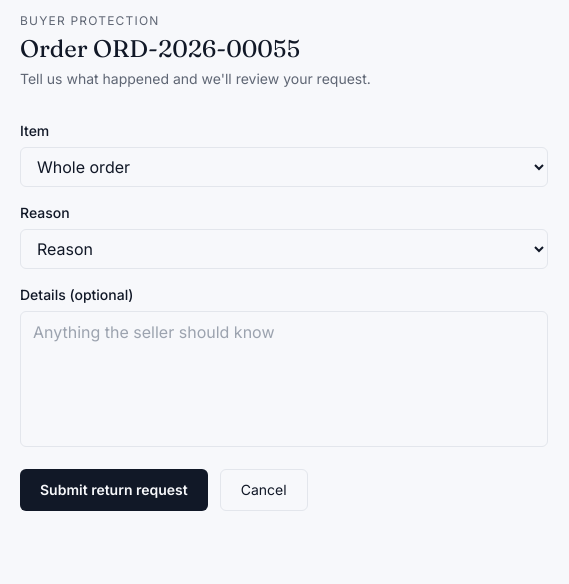
NewReturn page › asks for a reason under the field, does not submit and focuses it
Expected: the heading "Order ORD-2026-00055" is shown, [20,34,300,63]
Click the button "Submit return request". click: (114, 490)
box: [20,469,208,511]
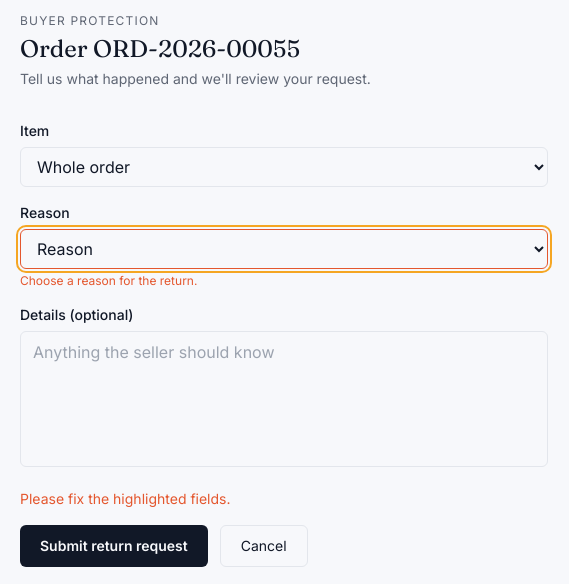
Select "Other" in the dropdown labelled "Reason". click: (284, 249)
box: [20,229,548,269]
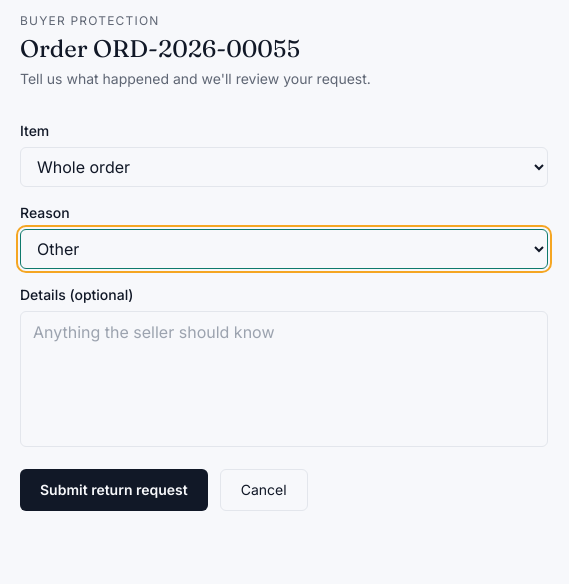
Now the text "Choose a reason for the return." is gone
